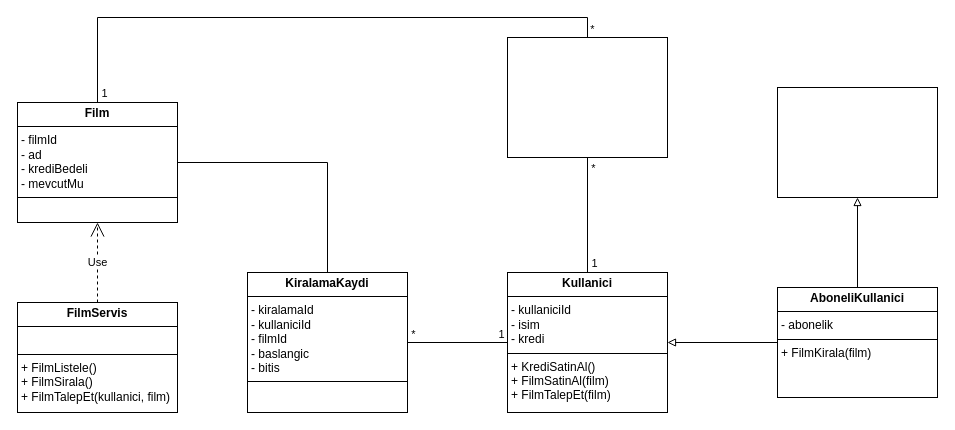
Image size: 955x430. Some labels were removed from this diagram. The centre of each missing label's shape, as x and y in pixels:
"Abonelik - aboneId - baslangicTarihi - bitisTarihi" belongs at (857,142).
"SatinAlmaKaydi - satinAlmaId - kullaniciId - filmId - tarih" belongs at (587,97).
